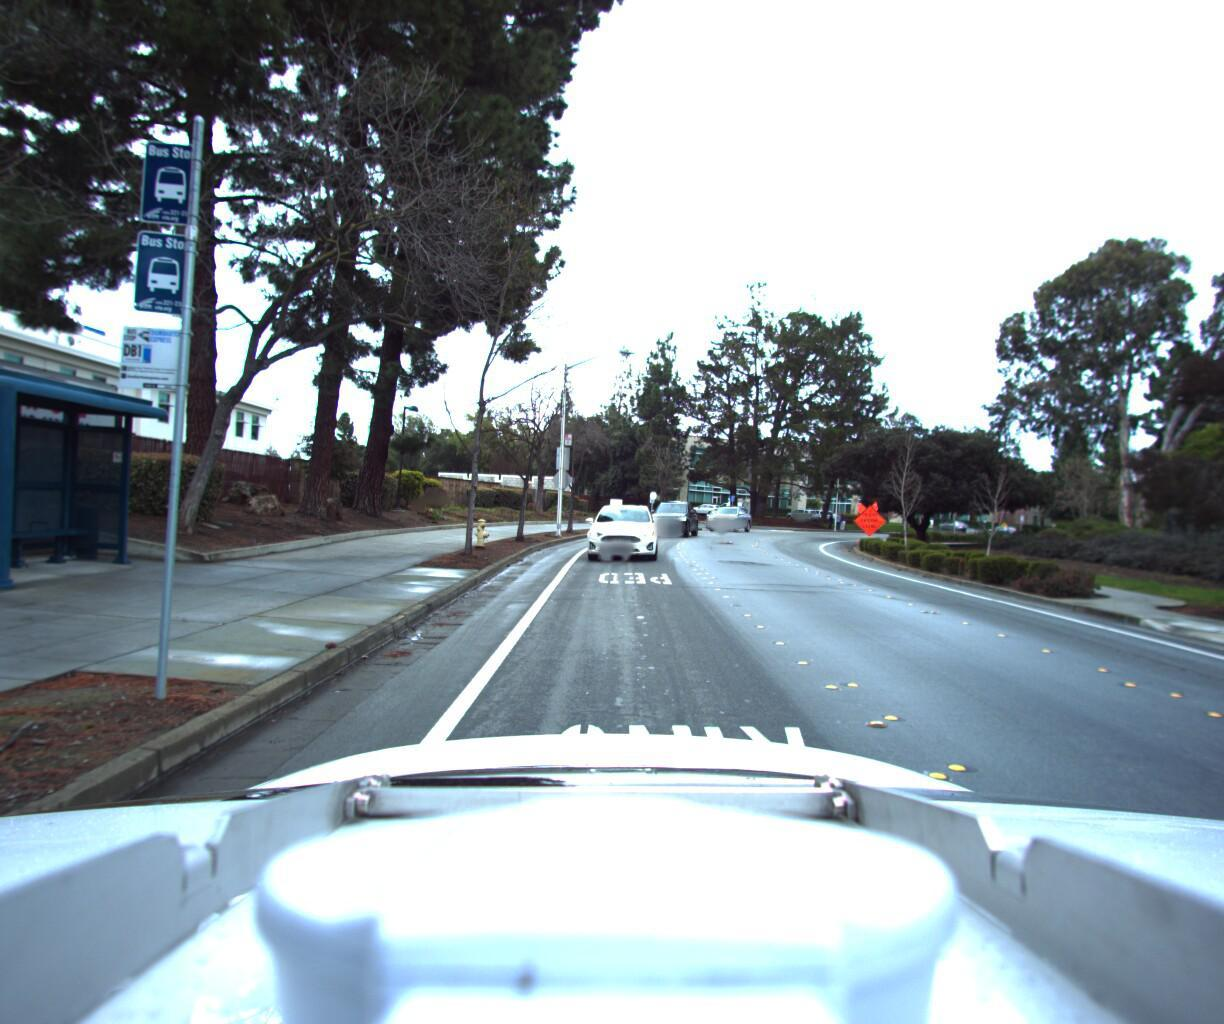car: (582, 500, 658, 565), (646, 500, 696, 539), (703, 504, 753, 534)
